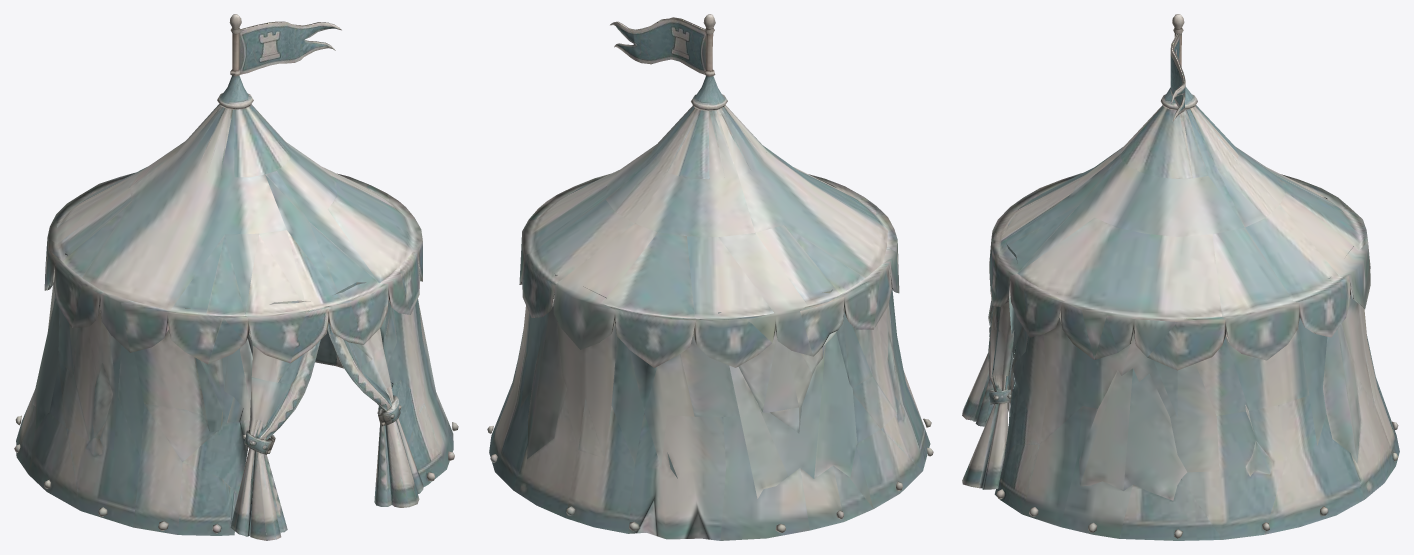
Rendered from tent_light.glb.
The picture shows the model from 3 angles, left to right: view 1: azimuth 30°, elevation 25°; view 2: azimuth 150°, elevation 25°; view 3: azimuth 270°, elevation 25°; orthographic projection.
Bounding box in the file's own units: 0.8862 × 0.9521 × 0.8682.
1 material, 1 textured.
